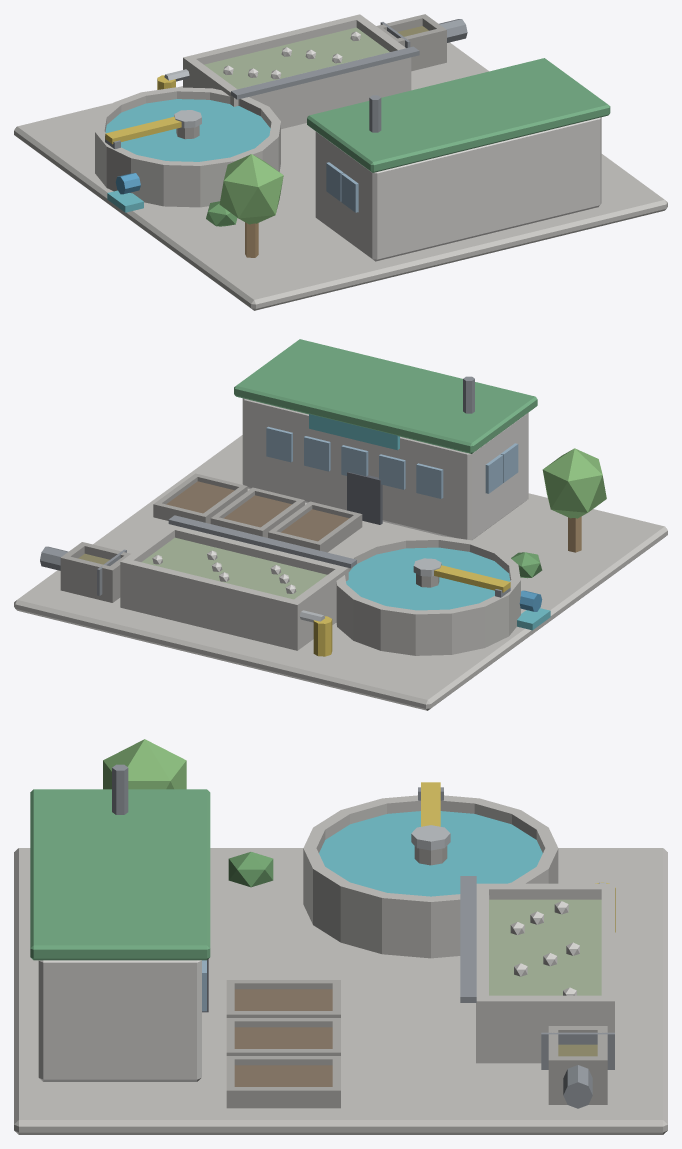
The model's file is agua__ete.glb.
3 renders of one model, top to bottom at view 1: azimuth 30°, elevation 25°; view 2: azimuth 150°, elevation 25°; view 3: azimuth 270°, elevation 25°, orthographic. The views are drawn at different scales.
Visible parts, largest first — view 1: agua__ete; view 2: agua__ete; view 3: agua__ete.
Part boxes in pixels (x1=…): agua__ete: x1=14, y1=14, x2=667, y2=310; agua__ete: x1=14, y1=339, x2=667, y2=710; agua__ete: x1=14, y1=739, x2=667, y2=1134.
Bounding box in the file's own units: 4.04 × 1.35 × 4.
